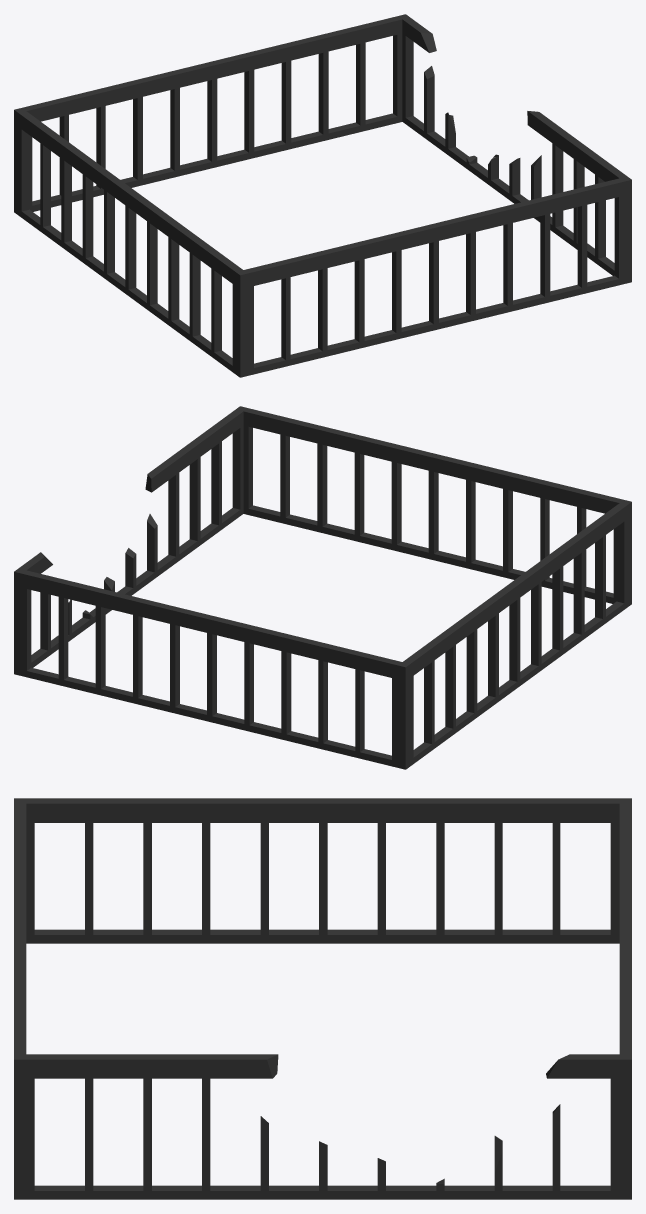
The model's file is OfficeTopDamaged.glb.
3 renders of one model, top to bottom at view 1: azimuth 30°, elevation 25°; view 2: azimuth 150°, elevation 25°; view 3: azimuth 270°, elevation 25°, orthographic. The views are drawn at different scales.
Parts seen in each view (by area): view 1: LargeDamageOfficeP1-col; view 2: LargeDamageOfficeP1-col; view 3: LargeDamageOfficeP1-col.
Part boxes in pixels (x1,y1,x2,y2): LargeDamageOfficeP1-col: [14, 14, 631, 377]; LargeDamageOfficeP1-col: [14, 406, 631, 769]; LargeDamageOfficeP1-col: [14, 798, 631, 1199].
Size of the model in its own units: 64 by 16 by 64.
Materials: 1 (1 with a texture image).
